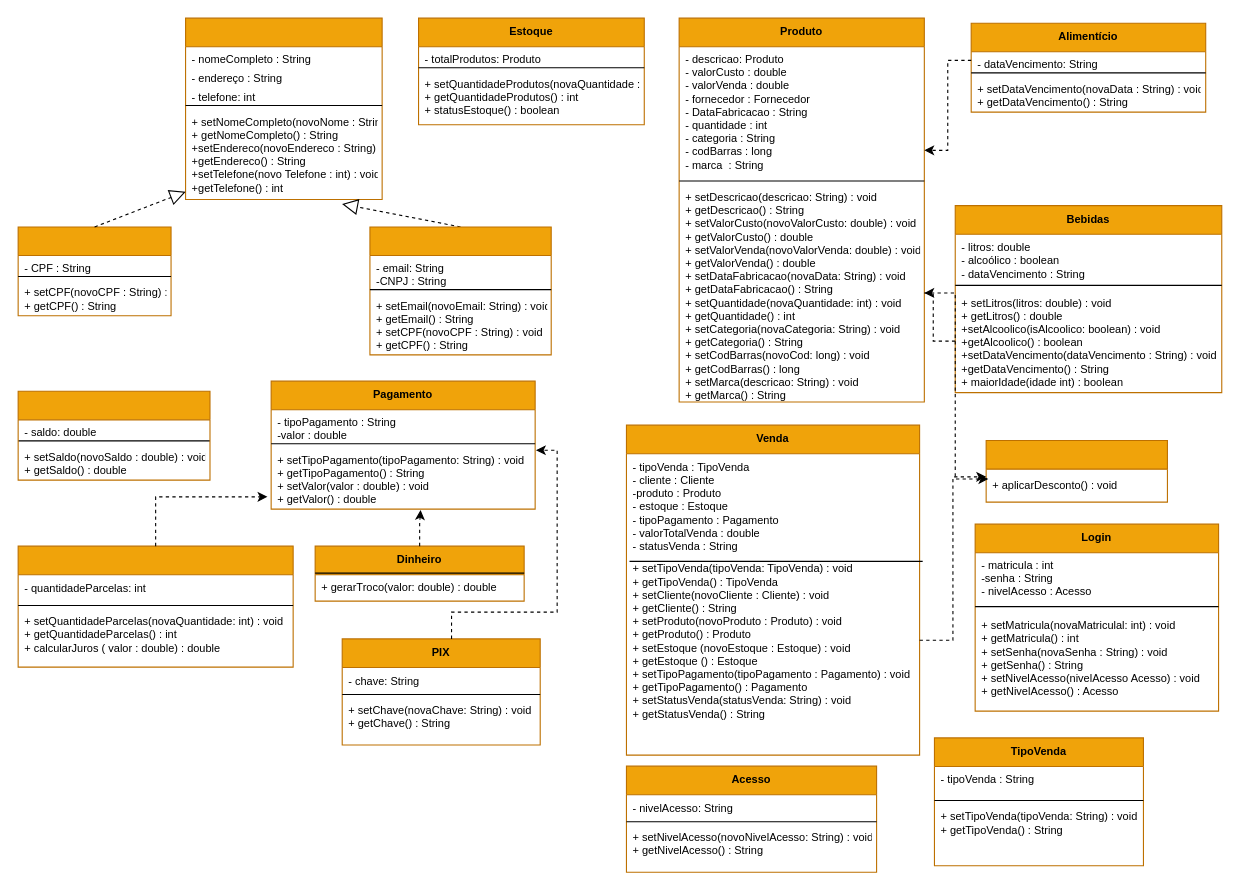
Some shapes in this 1240 by 890 pixel diagram are drawn without their labels. Each missing label, with the box of its shape:
Caixa: (17, 390, 210, 480)
CartaoCredito: (17, 545, 293, 667)
Cliente: (17, 226, 171, 316)
Fornecedor: (369, 226, 551, 355)
IDesconto: (985, 439, 1167, 502)
Pessoa: (184, 17, 382, 199)
